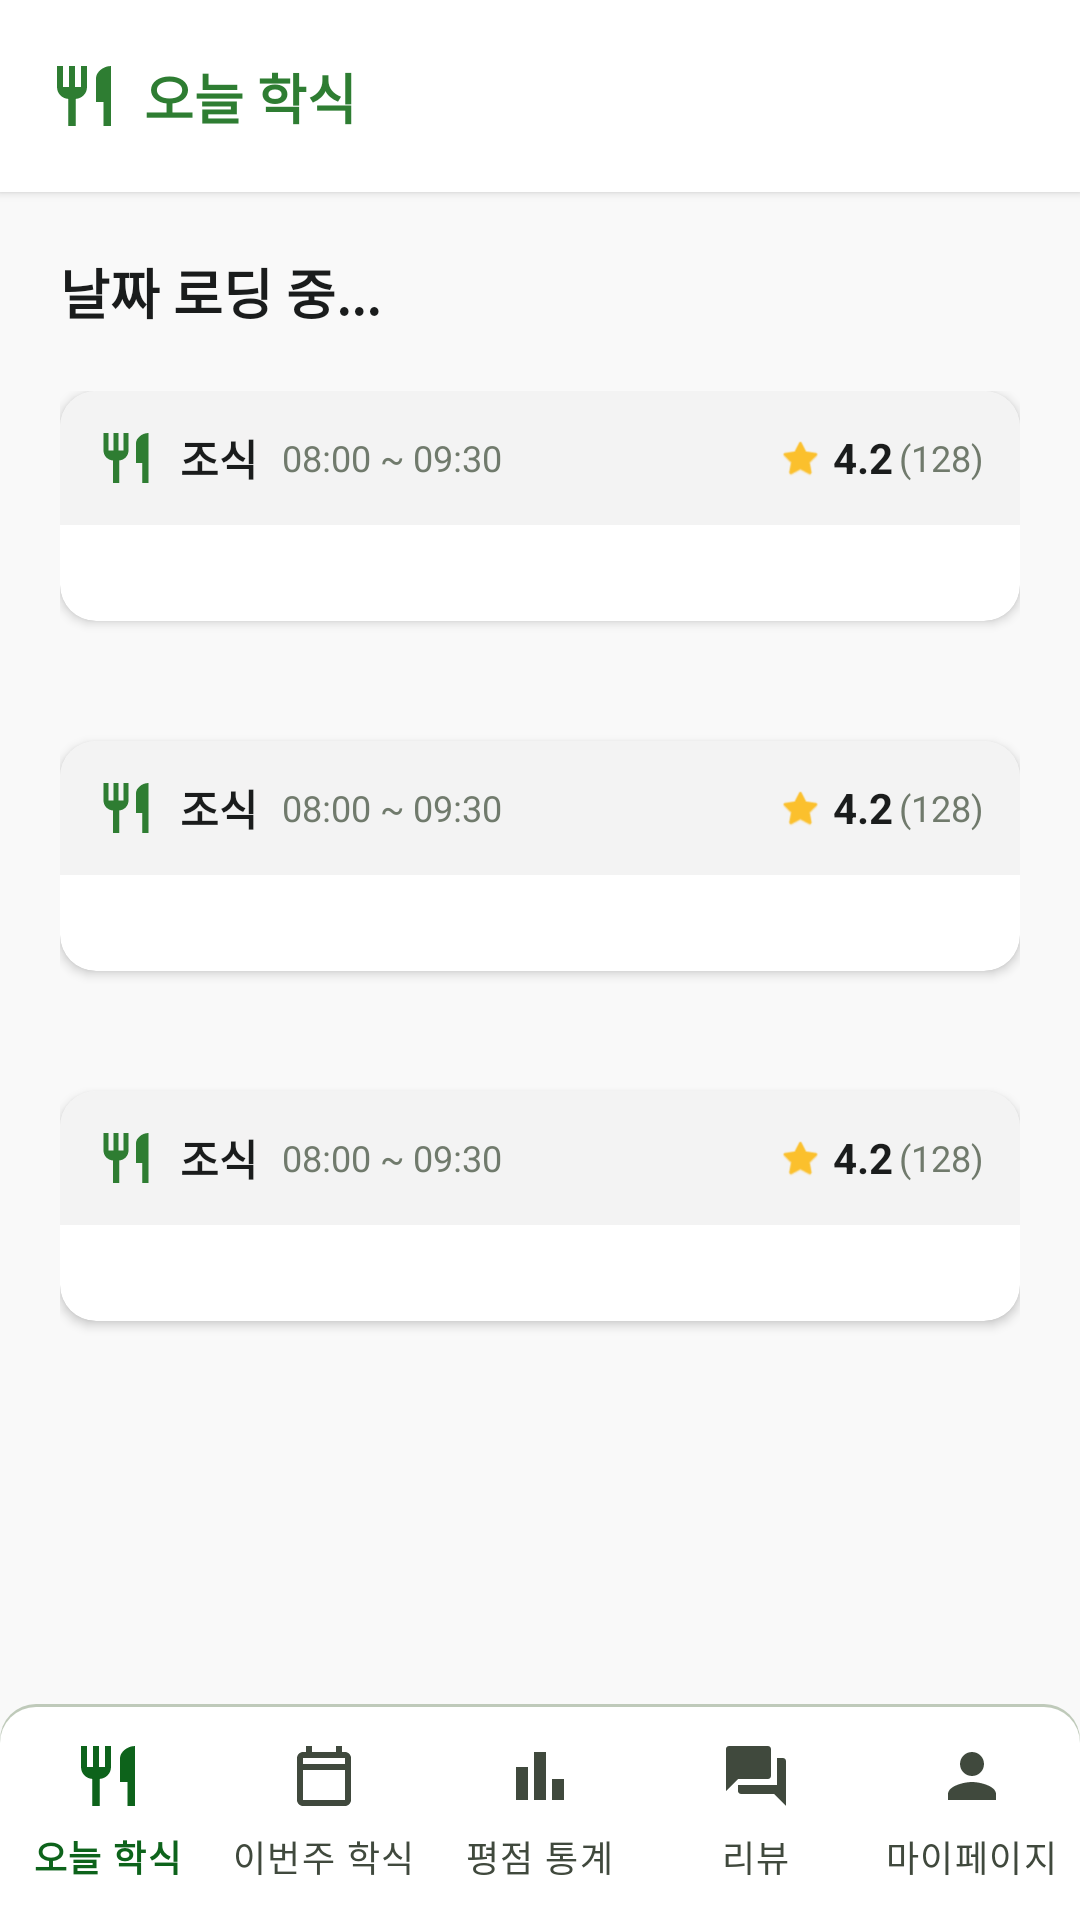

Named icons in this screenshot (1080w x 1920h) and their centers, [x,y]:
restaurant: [84,96], [126,458], [126,808], [126,1158]
star on: [800,458], [800,808], [800,1158]
